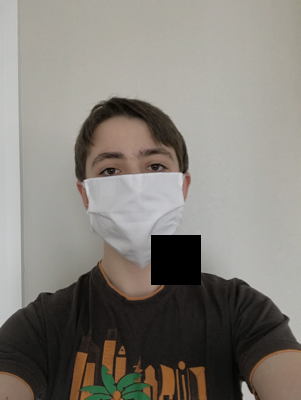with_mask: (82, 139, 187, 270)
